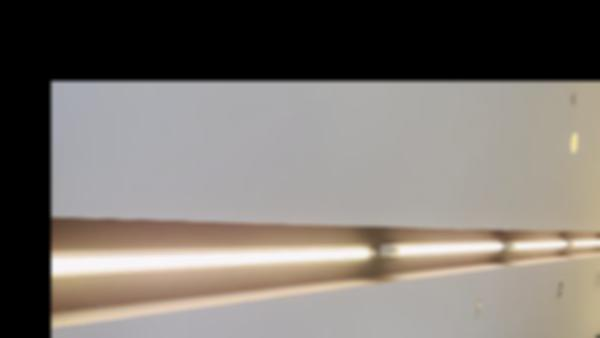light_on: (51, 229, 384, 303), (381, 223, 505, 273), (504, 233, 573, 262), (568, 235, 600, 258)
